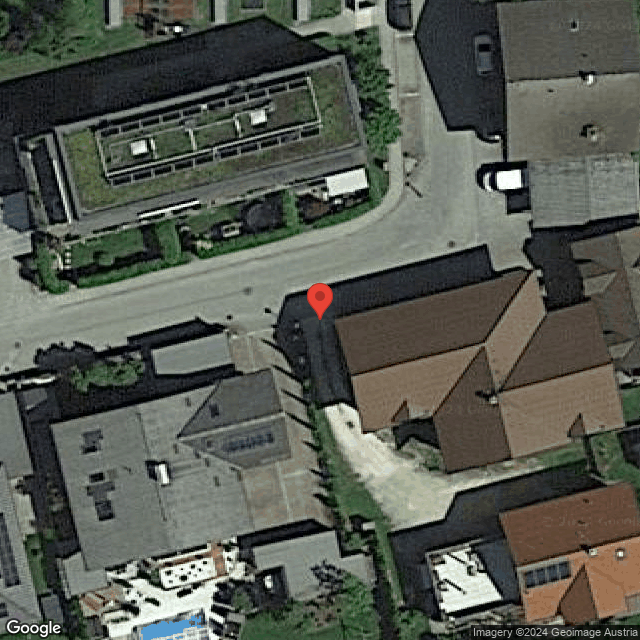dormer: (177, 368, 293, 469), (557, 564, 627, 625), (577, 262, 615, 298), (603, 333, 633, 363), (392, 401, 427, 425), (569, 414, 603, 437)
obstacles: (128, 137, 151, 158), (248, 106, 269, 127), (155, 462, 170, 488), (581, 71, 595, 85), (614, 549, 625, 561)
panels: (222, 428, 275, 457), (523, 559, 572, 590)
ridge: (139, 405, 175, 549), (517, 533, 638, 570), (350, 347, 484, 380), (498, 365, 611, 396), (483, 345, 512, 457), (615, 235, 639, 330), (508, 72, 639, 82), (588, 157, 590, 226)
roof: (333, 270, 624, 471), (57, 59, 366, 218), (52, 369, 292, 570), (497, 1, 640, 162), (499, 483, 640, 624), (569, 226, 640, 389), (528, 150, 640, 229)
valley: (499, 315, 547, 394), (433, 344, 484, 417), (486, 271, 534, 345), (498, 394, 573, 438)
